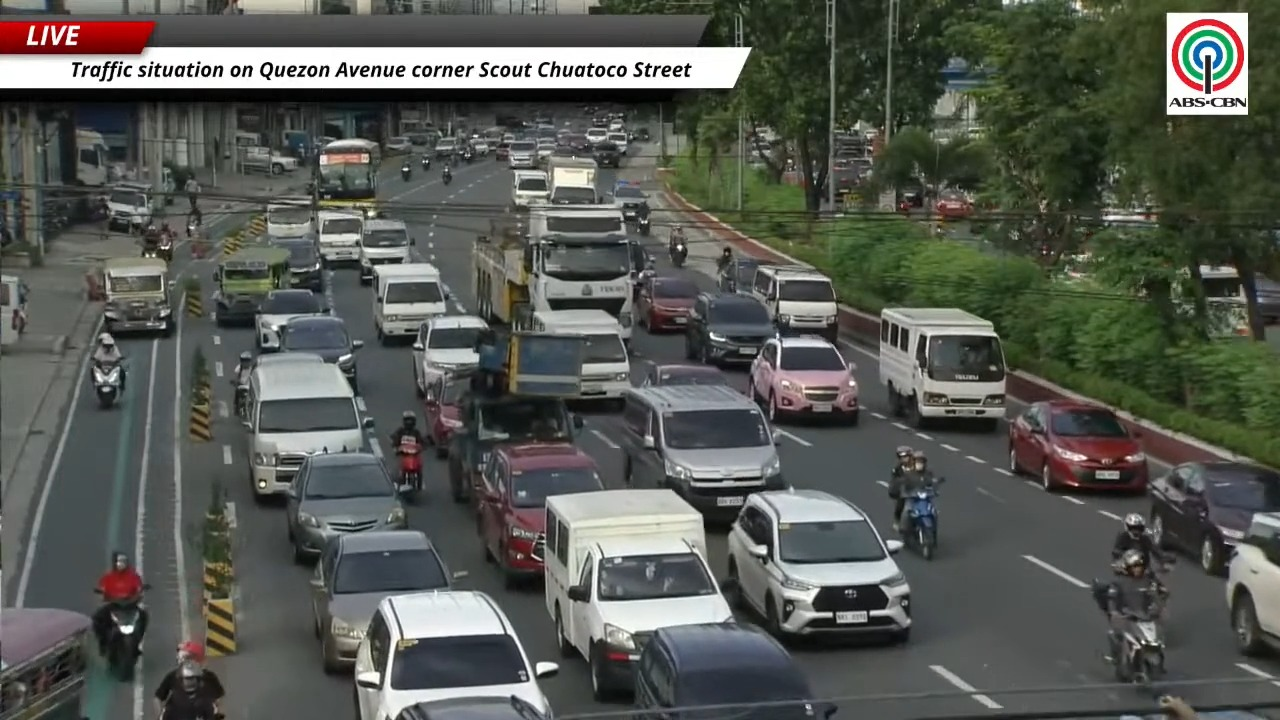bus: (316, 139, 381, 215)
car: (727, 488, 911, 641), (354, 590, 558, 719), (616, 385, 786, 523), (310, 529, 461, 671), (631, 623, 836, 719), (477, 442, 603, 588), (1148, 461, 1279, 574), (286, 448, 406, 562), (1008, 399, 1148, 492), (748, 336, 859, 424), (1226, 513, 1279, 655), (685, 293, 776, 365), (279, 315, 363, 391), (412, 315, 488, 395), (254, 289, 327, 350), (424, 373, 470, 458), (394, 696, 550, 719), (636, 275, 698, 332), (268, 233, 323, 292), (640, 362, 728, 386), (717, 256, 775, 292), (628, 239, 653, 297), (613, 183, 647, 221), (1255, 274, 1279, 324), (253, 352, 323, 369), (934, 190, 973, 219), (509, 139, 537, 168), (592, 142, 621, 167), (563, 133, 591, 153), (606, 131, 627, 155), (536, 138, 555, 164), (434, 137, 458, 157), (384, 137, 413, 153), (585, 126, 606, 145), (552, 145, 580, 157), (471, 139, 489, 156), (494, 141, 509, 159)
motorcycle: (1110, 579, 1165, 685), (1112, 607, 1165, 685), (902, 481, 940, 559), (1148, 556, 1175, 621), (396, 435, 422, 496), (92, 363, 122, 408), (230, 372, 248, 419), (669, 241, 687, 268), (157, 234, 173, 262), (636, 216, 650, 235), (141, 245, 159, 258), (401, 163, 411, 181), (462, 148, 474, 163), (442, 167, 452, 185), (421, 155, 430, 170), (143, 585, 149, 590)
truck: (448, 328, 585, 503), (471, 205, 633, 339), (547, 156, 601, 205), (75, 128, 109, 187), (239, 146, 298, 175)
